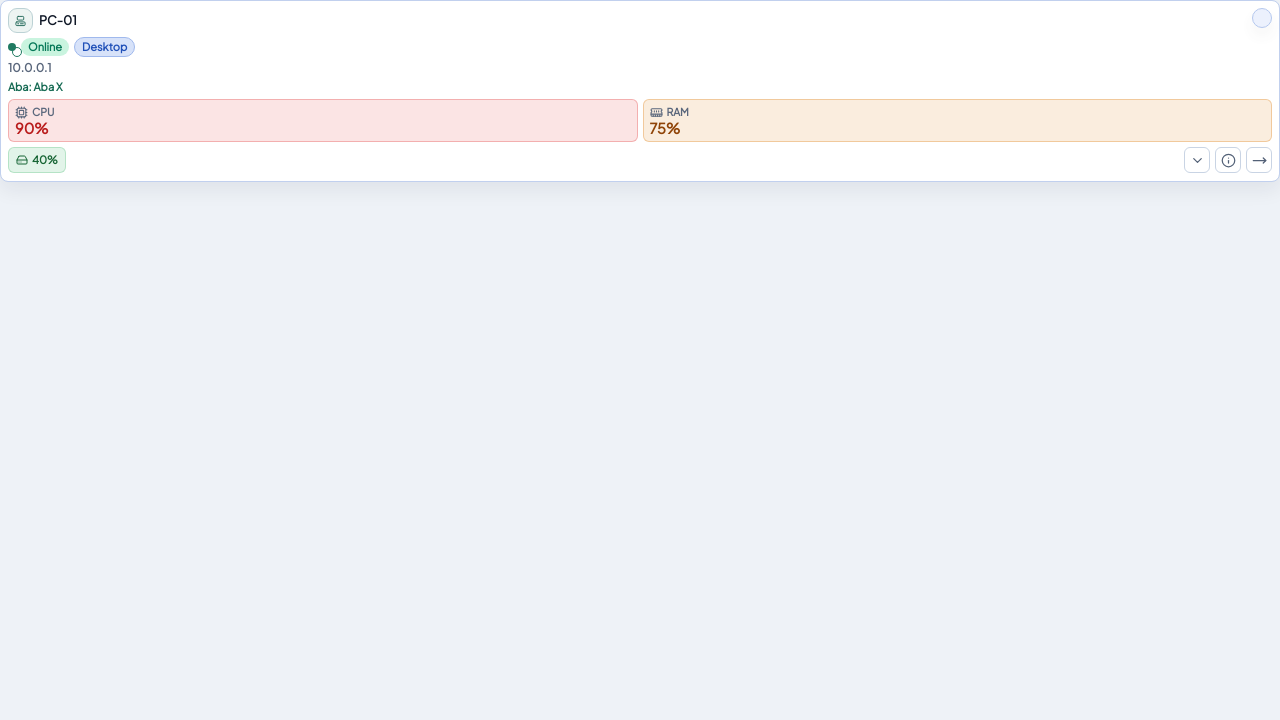
Test: MachineCard › abre o histórico de métricas pelos selos de CPU, RAM e disco
Click the button "CPU 90%": (32, 128) [8,99,638,142]
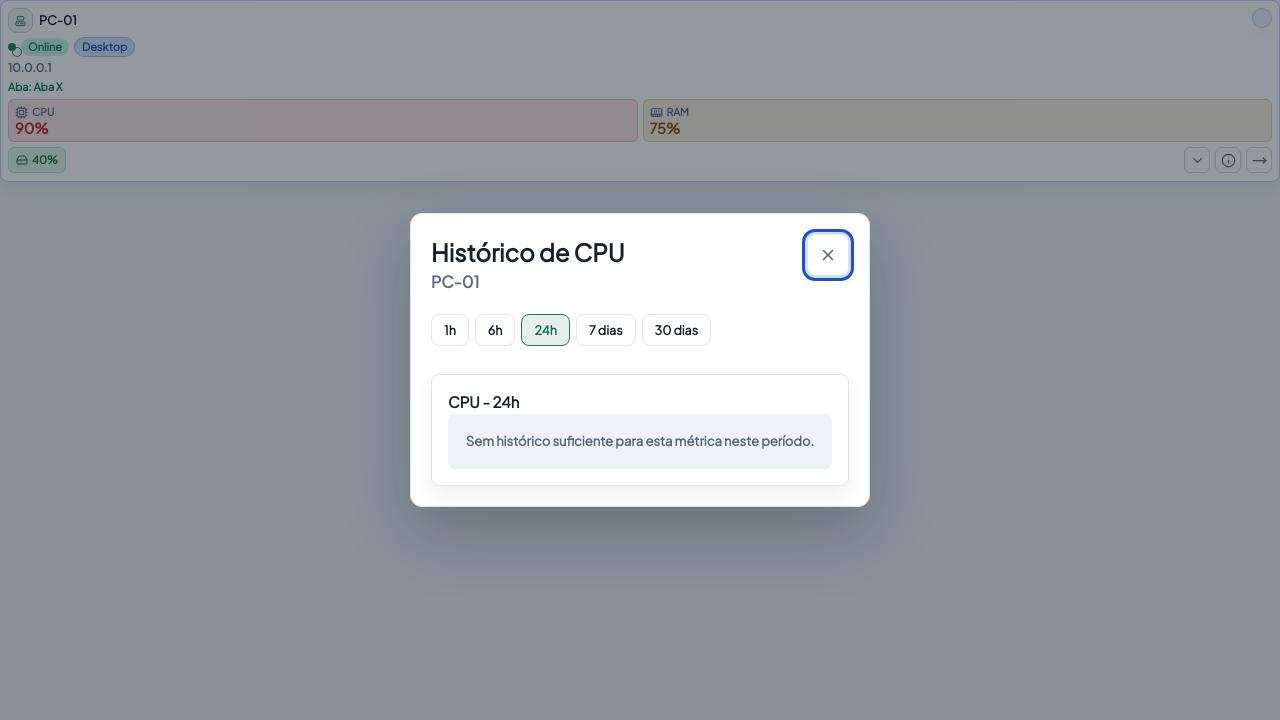
Expected: the dialog is shown, [410,213,870,507]
Press Escape
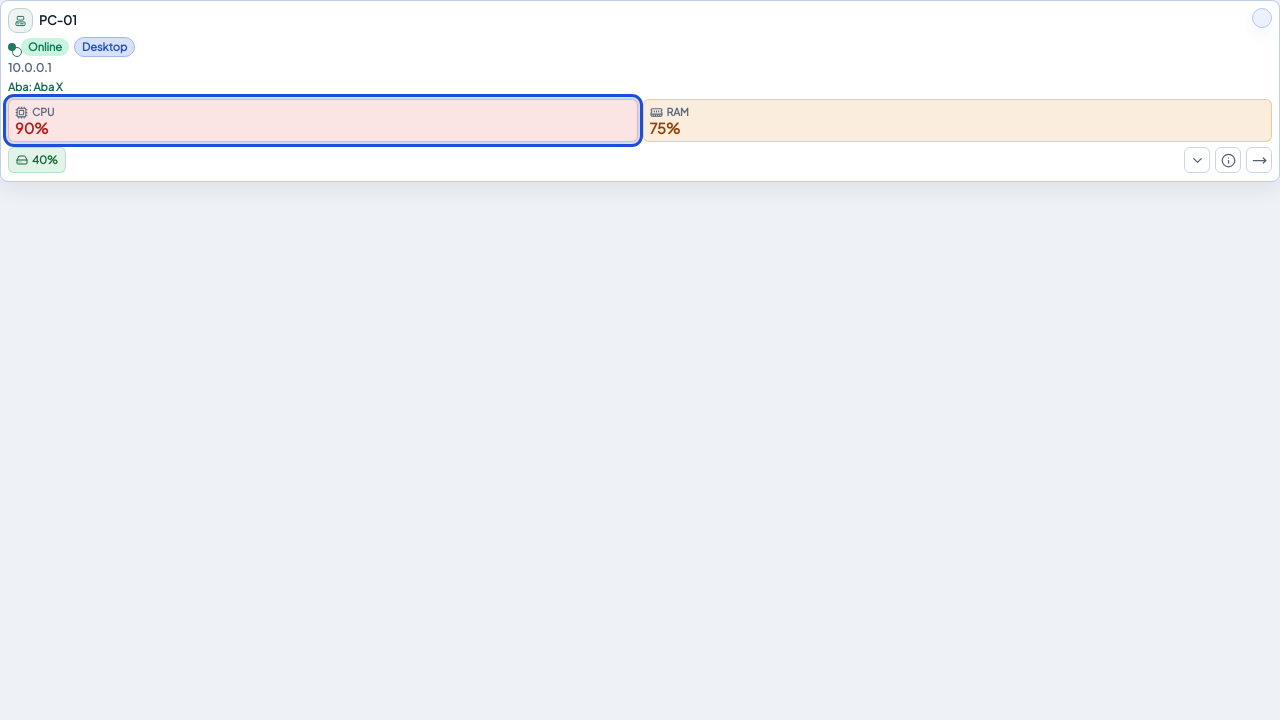
Click the button "RAM 75%": (665, 128) [642,99,1272,142]
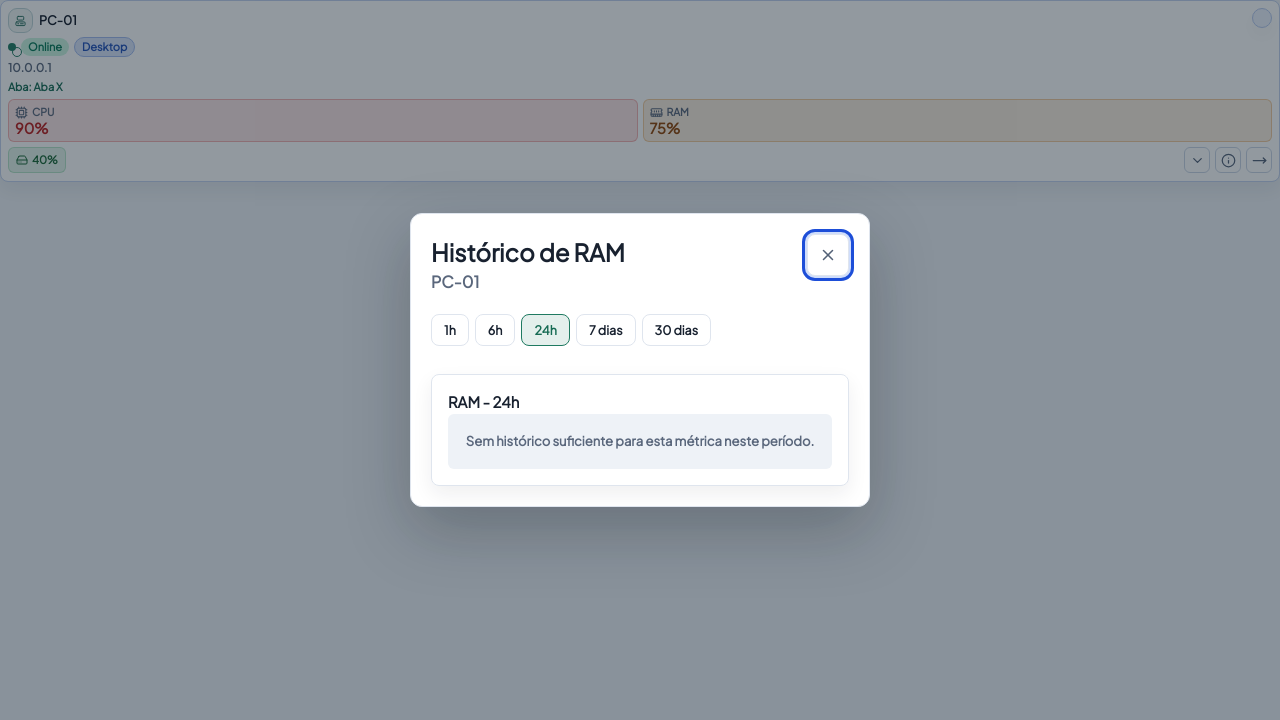
Expected: the dialog is shown, [410,213,870,507]
Press Escape
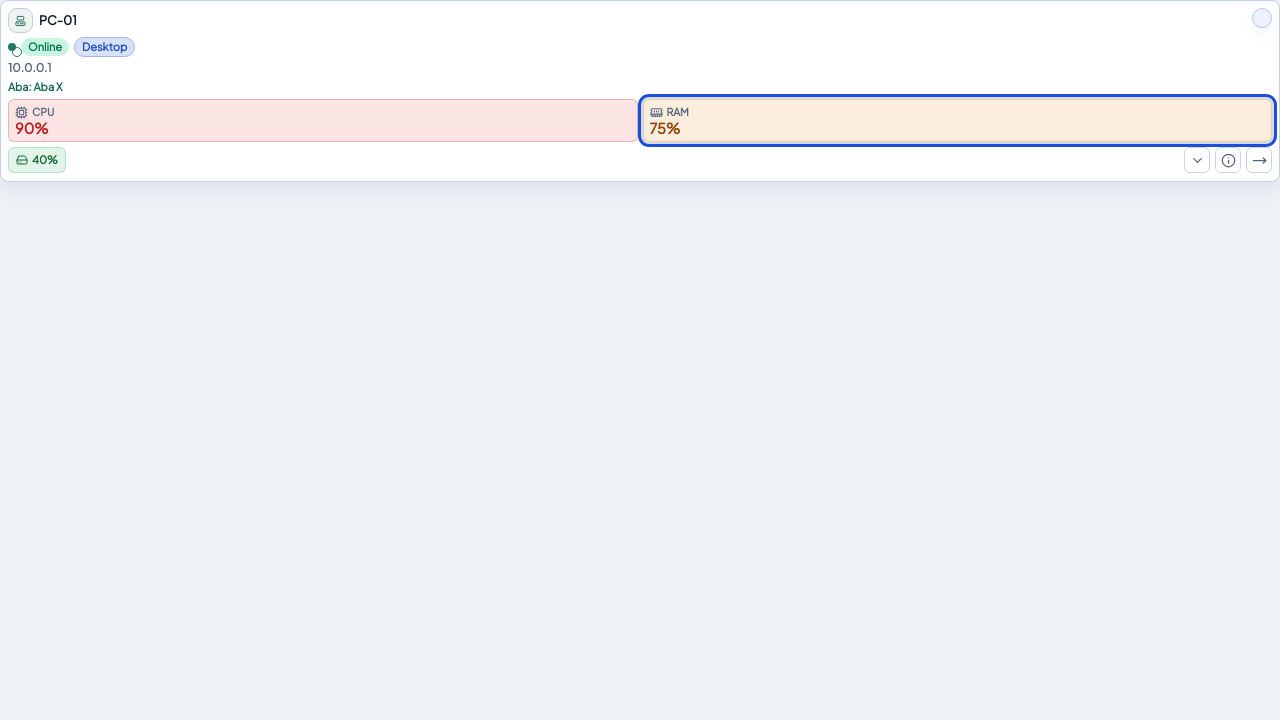
Click the button titled "Disco 40%": (37, 160) [8,147,66,173]
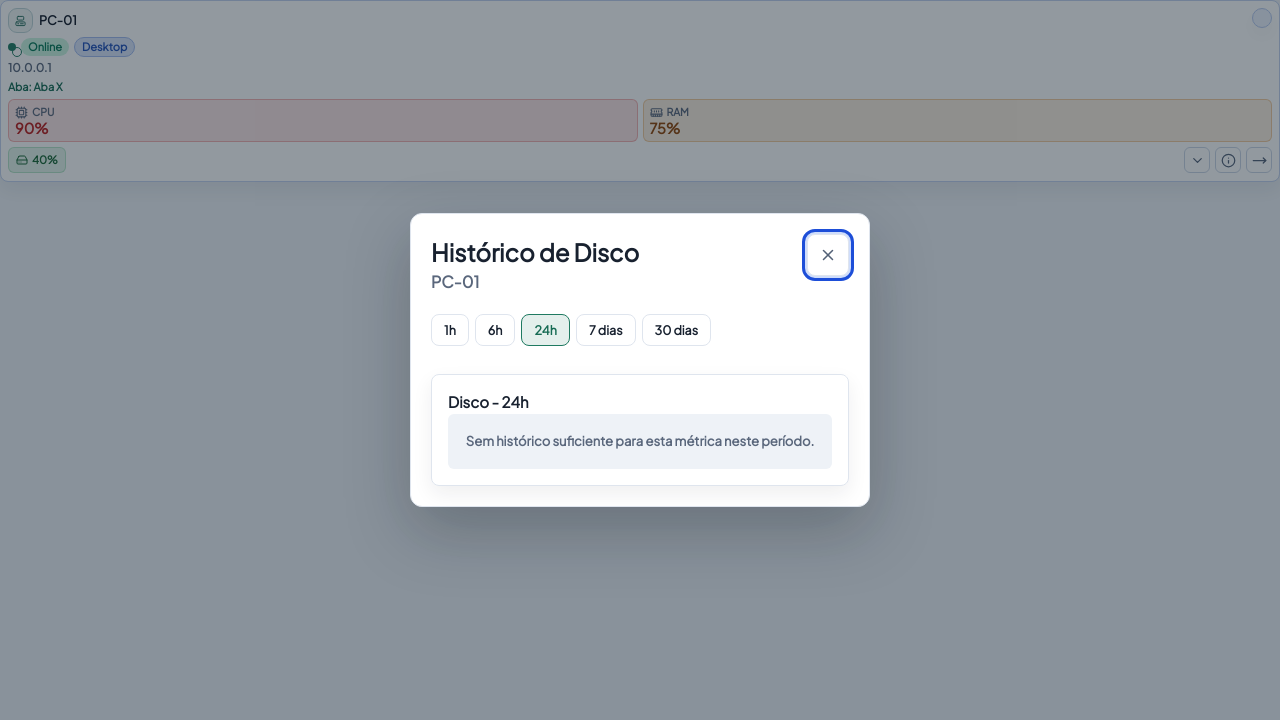
Expected: the dialog is shown, [410,213,870,507]
